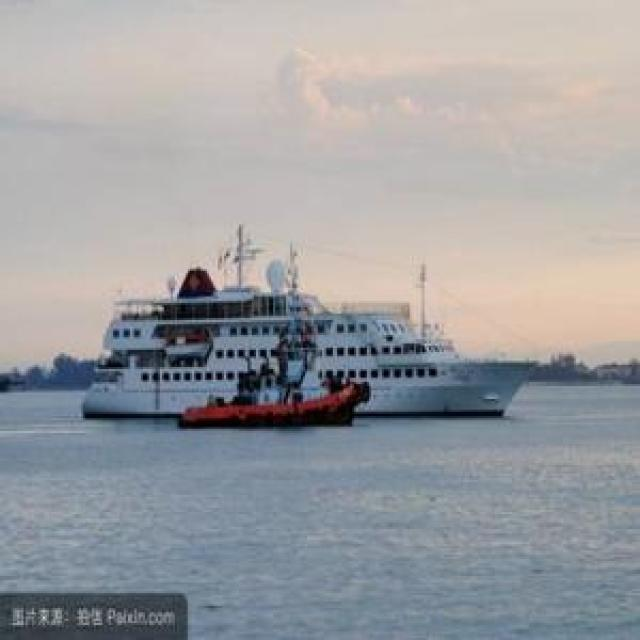houseboat: (180, 351, 368, 423)
passenger ship: (76, 274, 532, 417)
